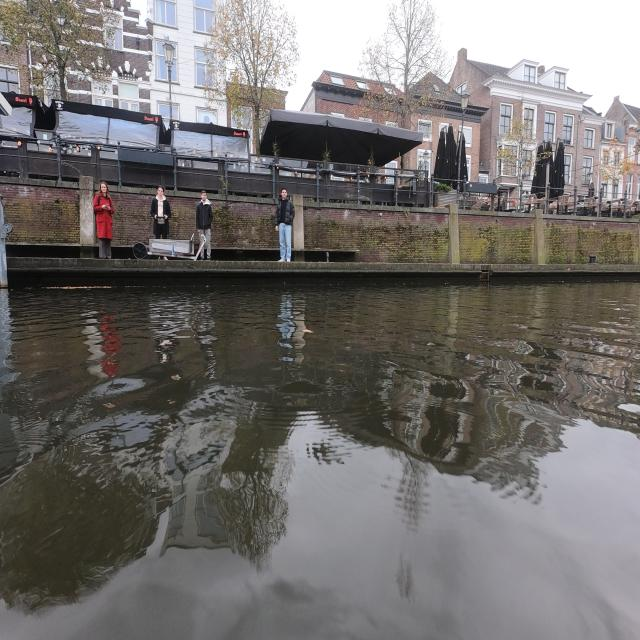dock: (8, 257, 482, 286), (492, 264, 640, 281)
sky: (426, 2, 638, 112), (284, 0, 392, 100)
tree: (2, 0, 140, 92)
water: (12, 280, 638, 632)
